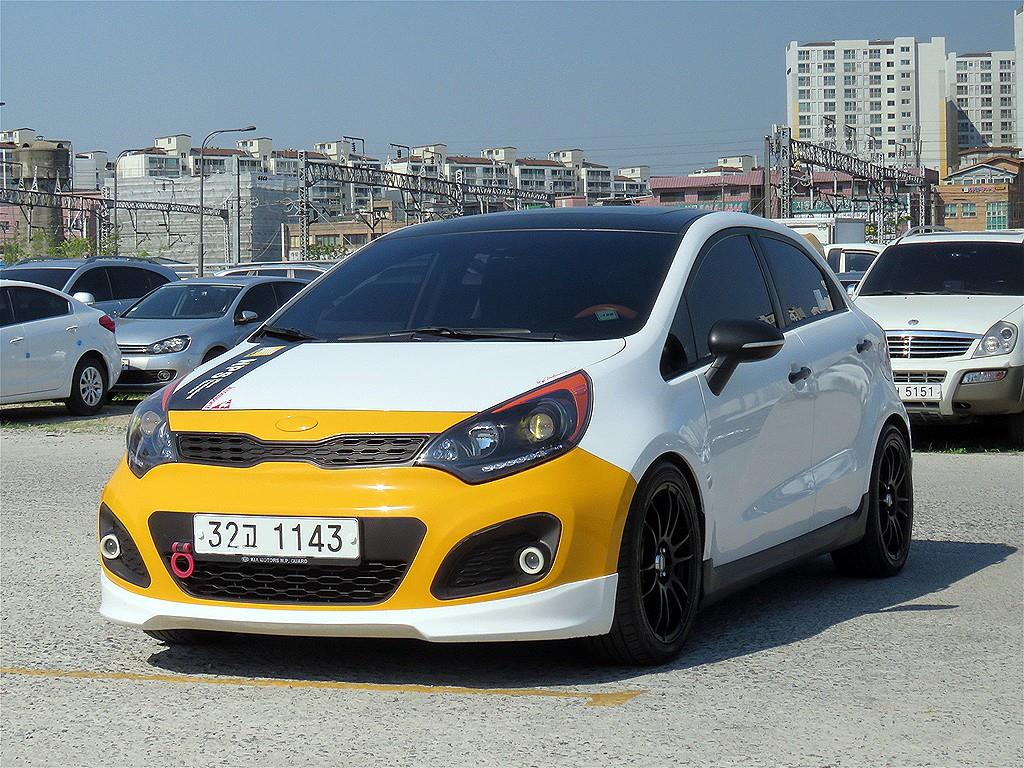plate: (194, 515, 358, 558)
